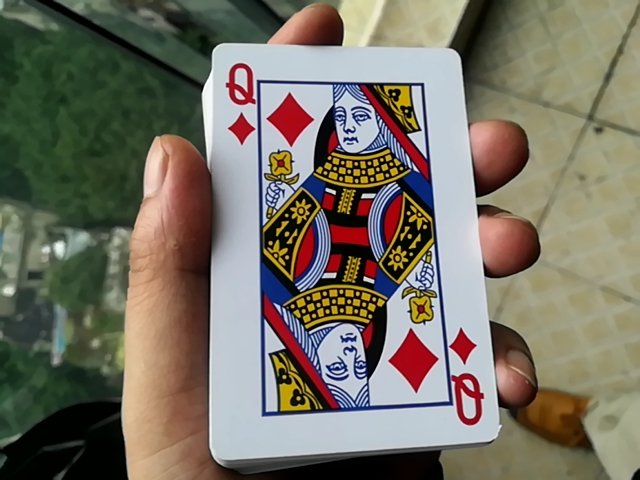fk q: (190, 49, 508, 460)
